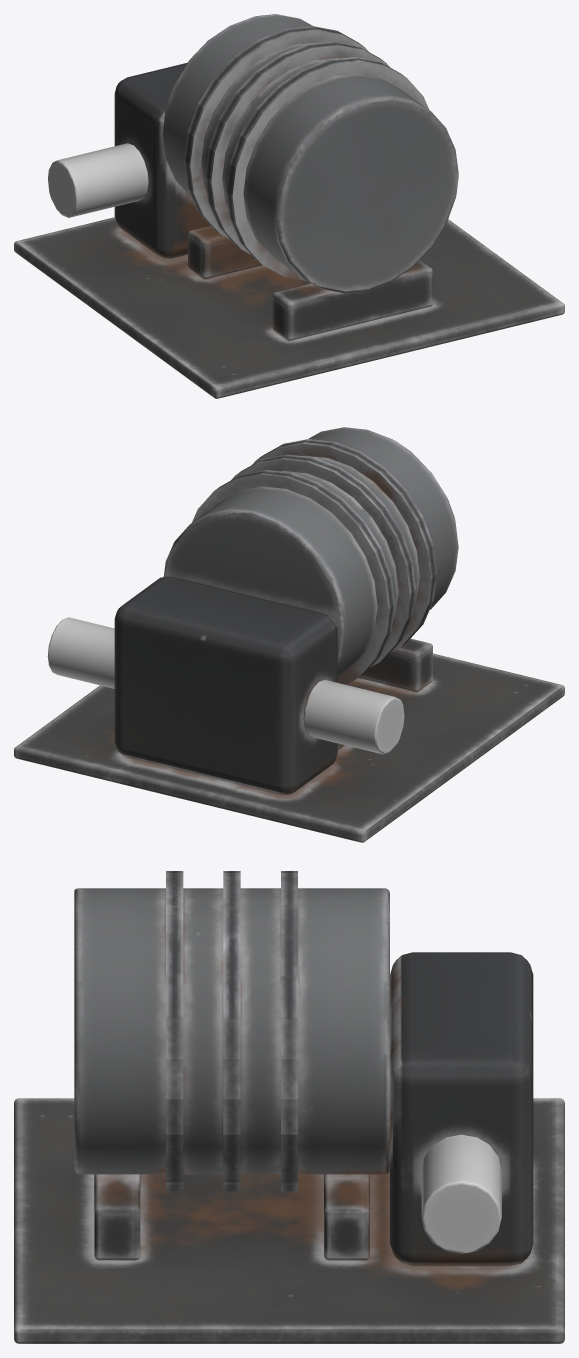
The model's file is SM_PartEngine.glb.
3 views of the same model, one above another, from view 1: azimuth 30°, elevation 25°; view 2: azimuth 150°, elevation 25°; view 3: azimuth 270°, elevation 25° (orthographic). The views are drawn at different scales.
Parts seen in each view (by area): view 1: SM_PartEngine; view 2: SM_PartEngine; view 3: SM_PartEngine.
Part boxes in pixels (bbox=[...]): SM_PartEngine: bbox=[14, 14, 564, 398]; SM_PartEngine: bbox=[14, 427, 564, 842]; SM_PartEngine: bbox=[14, 871, 564, 1343].
Bounding box in the file's own units: 0.96 × 0.66 × 0.96.
3 materials, 3 textured.
